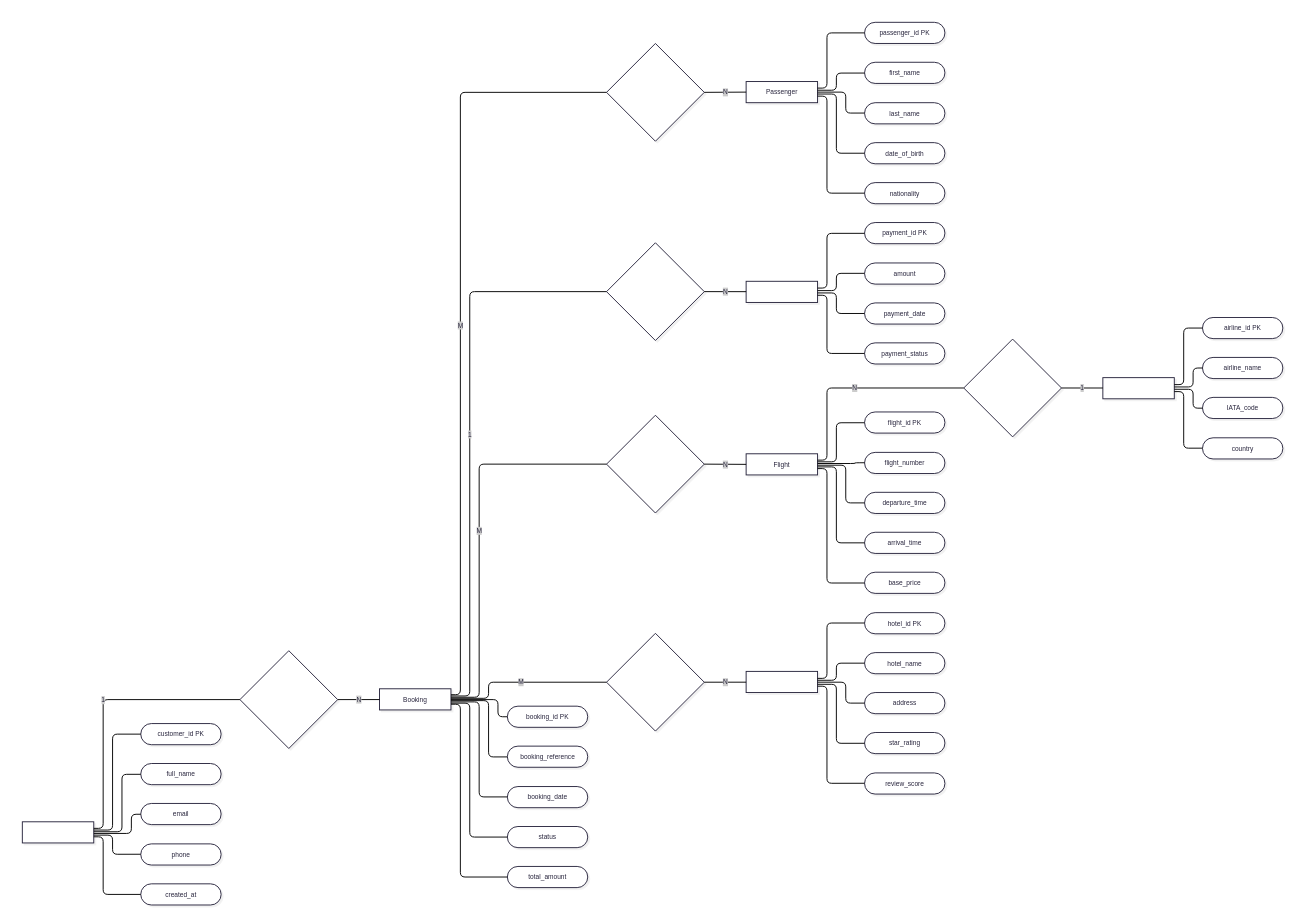
Some shapes in this 1293 by 915 pixel diagram are drawn without their labels. The shapes that lost their labels are listed below. From the top down, each one's centre as x and y in pixels, then its label:
At (x=656, y=93): "includes".
At (x=656, y=292): "has".
At (x=782, y=293): "Payment".
At (x=1013, y=388): "operated by".
At (x=1139, y=389): "Airline".
At (x=656, y=465): "selects".
At (x=289, y=700): "makes".
At (x=656, y=683): "books".
At (x=782, y=683): "Hotel".
At (x=59, y=833): "Customer".
